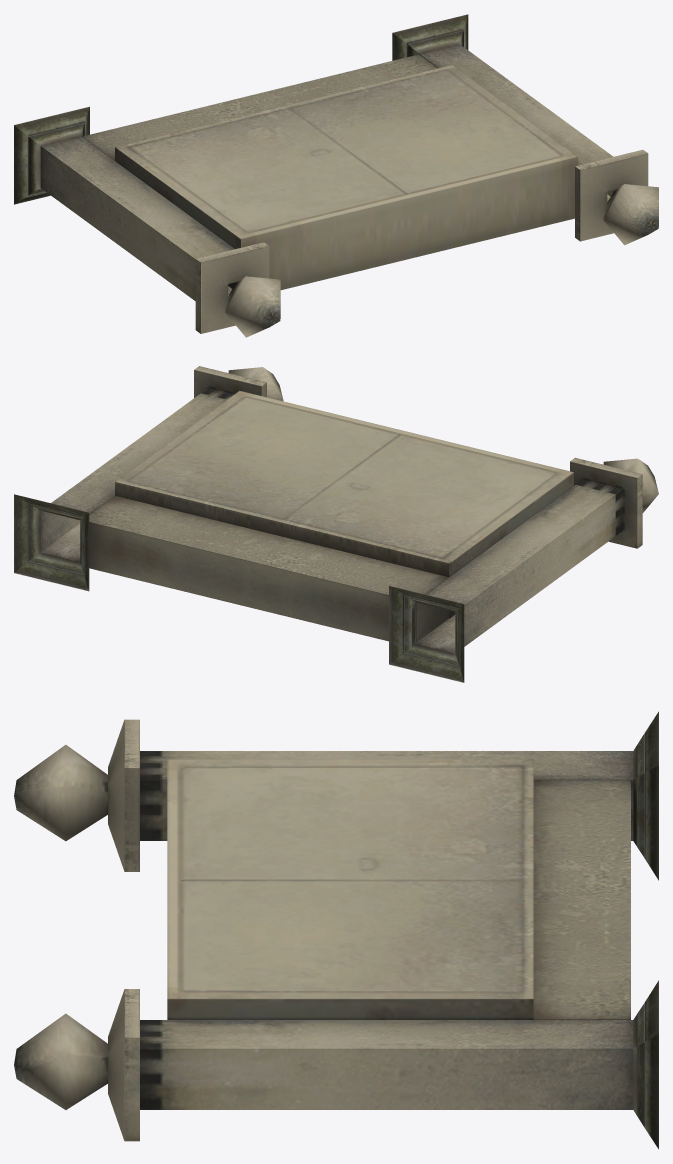
The model's file is mp_nuked_townsign_LOD2.obj.
3 renders of one model, top to bottom at view 1: azimuth 30°, elevation 25°; view 2: azimuth 150°, elevation 25°; view 3: azimuth 270°, elevation 25°, orthographic. The views are drawn at different scales.
Parts seen in each view (by area): view 1: mtl_mp_nuked_townsign; view 2: mtl_mp_nuked_townsign; view 3: mtl_mp_nuked_townsign.
Boxes of the visible parts, <box> form: mtl_mp_nuked_townsign: <box>14,14,658,337</box>; mtl_mp_nuked_townsign: <box>14,366,658,682</box>; mtl_mp_nuked_townsign: <box>14,711,658,1149</box>.
Size of the model in its own units: 390 by 65.22 by 329.
